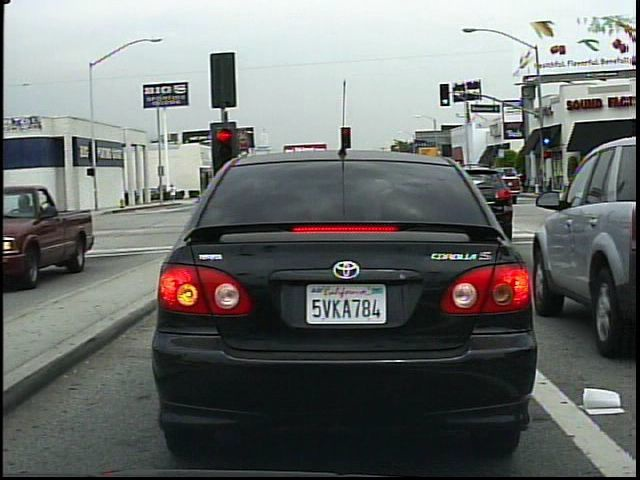person: (518, 166, 530, 195), (167, 180, 180, 206)
